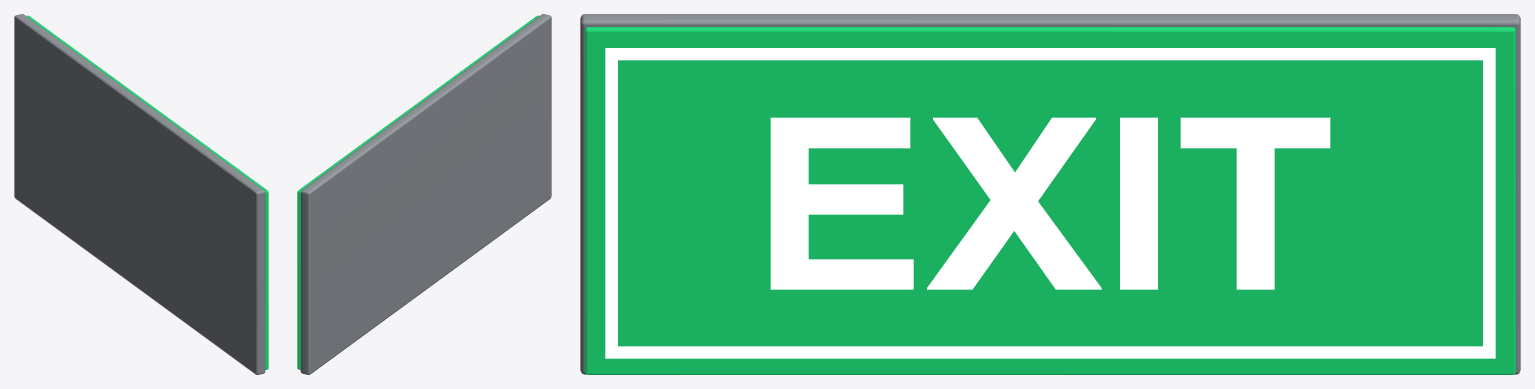
File: sign_exit.glb
The picture shows the model from 3 angles, left to right: view 1: azimuth 30°, elevation 25°; view 2: azimuth 150°, elevation 25°; view 3: azimuth 270°, elevation 25°; orthographic projection. The views are drawn at different scales.
Parts seen in each view (by area): view 1: sign_exit; view 2: sign_exit; view 3: sign_exit.
Boxes of the visible parts, x1,y1,x2,y2 form: sign_exit: (14,14,268,374); sign_exit: (297,14,551,374); sign_exit: (580,14,1520,374).
Size of the model in its own units: 0.0225 by 0.25 by 0.6.
